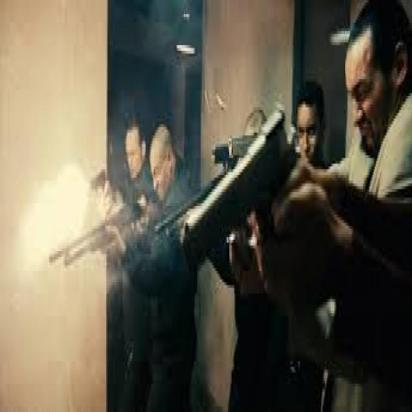Gun: (183, 97, 295, 276), (44, 197, 144, 293), (85, 168, 106, 199)
